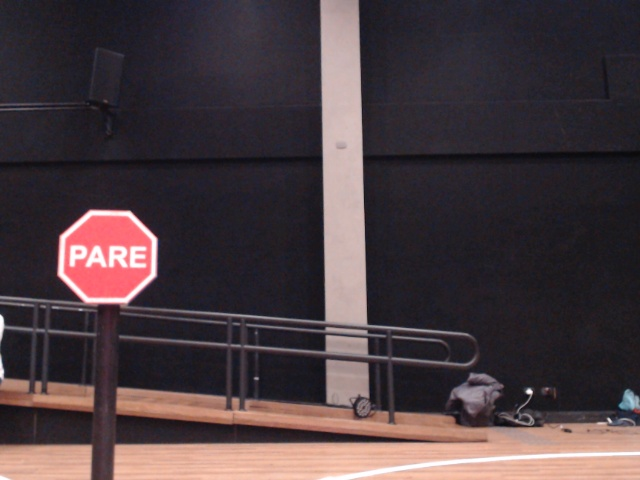SEMAFORO: (9, 181, 214, 370)
